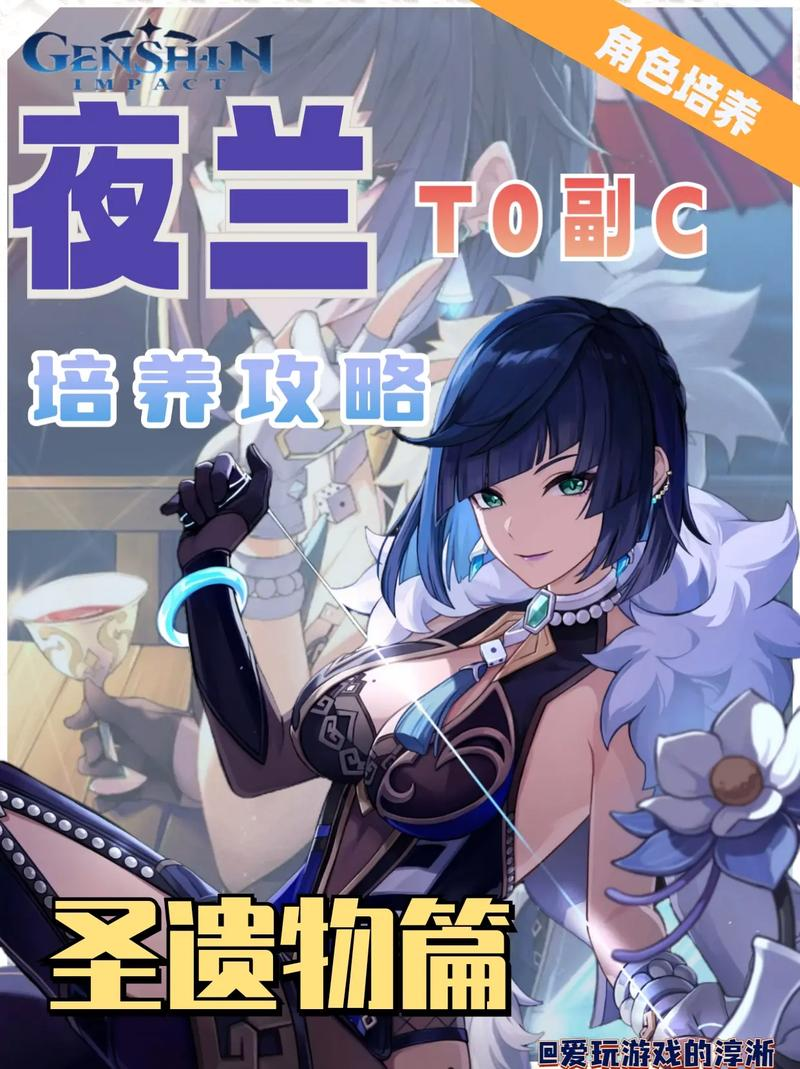夜兰: (1, 292, 781, 1069)
